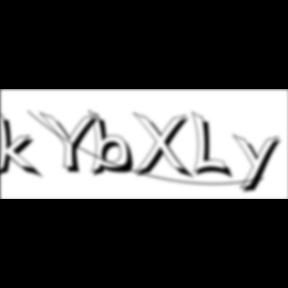L: (192, 110, 236, 182)
X: (132, 112, 196, 182)
Y: (38, 110, 106, 176)
b: (88, 109, 142, 179)
k: (0, 108, 46, 181)
y: (233, 132, 287, 196)
